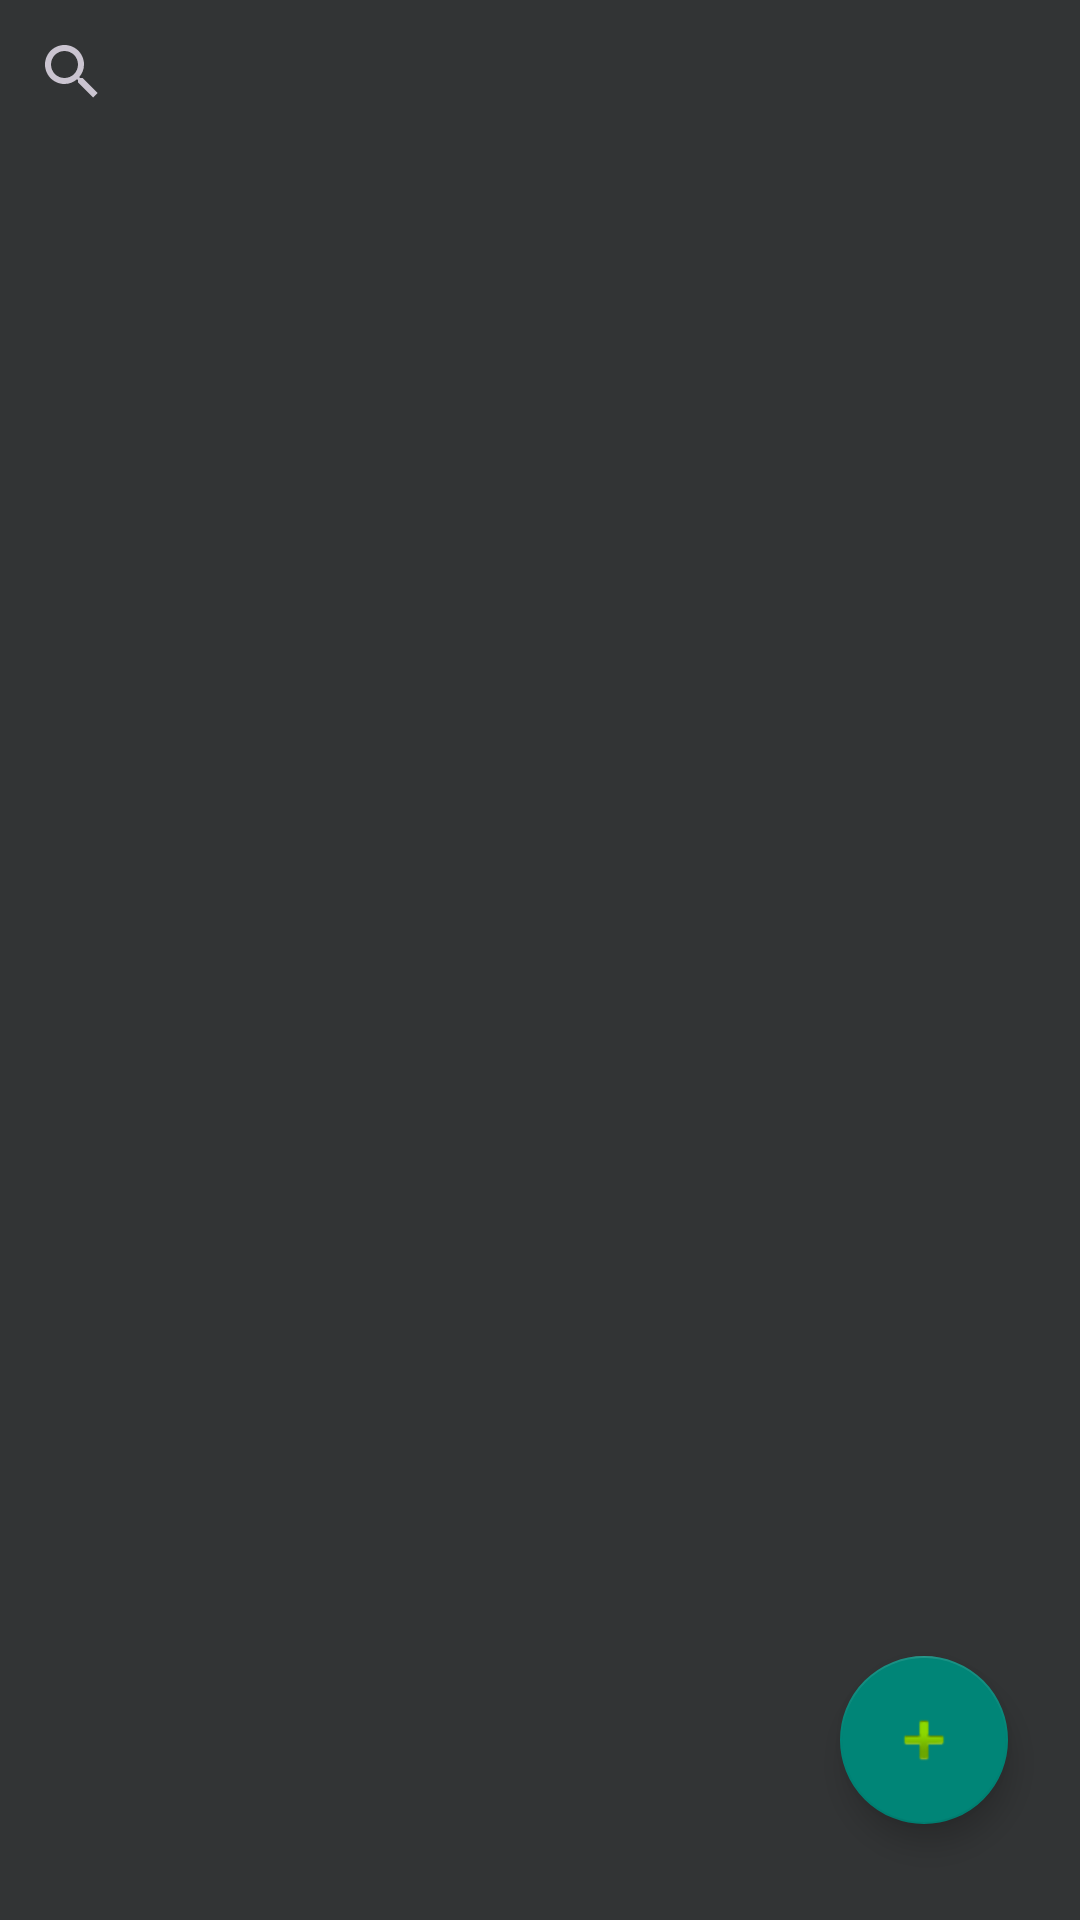

Icons on this 1080px x 1920px Android screen, each with the point to tap as point (x, y):
add: point (924, 1740)
